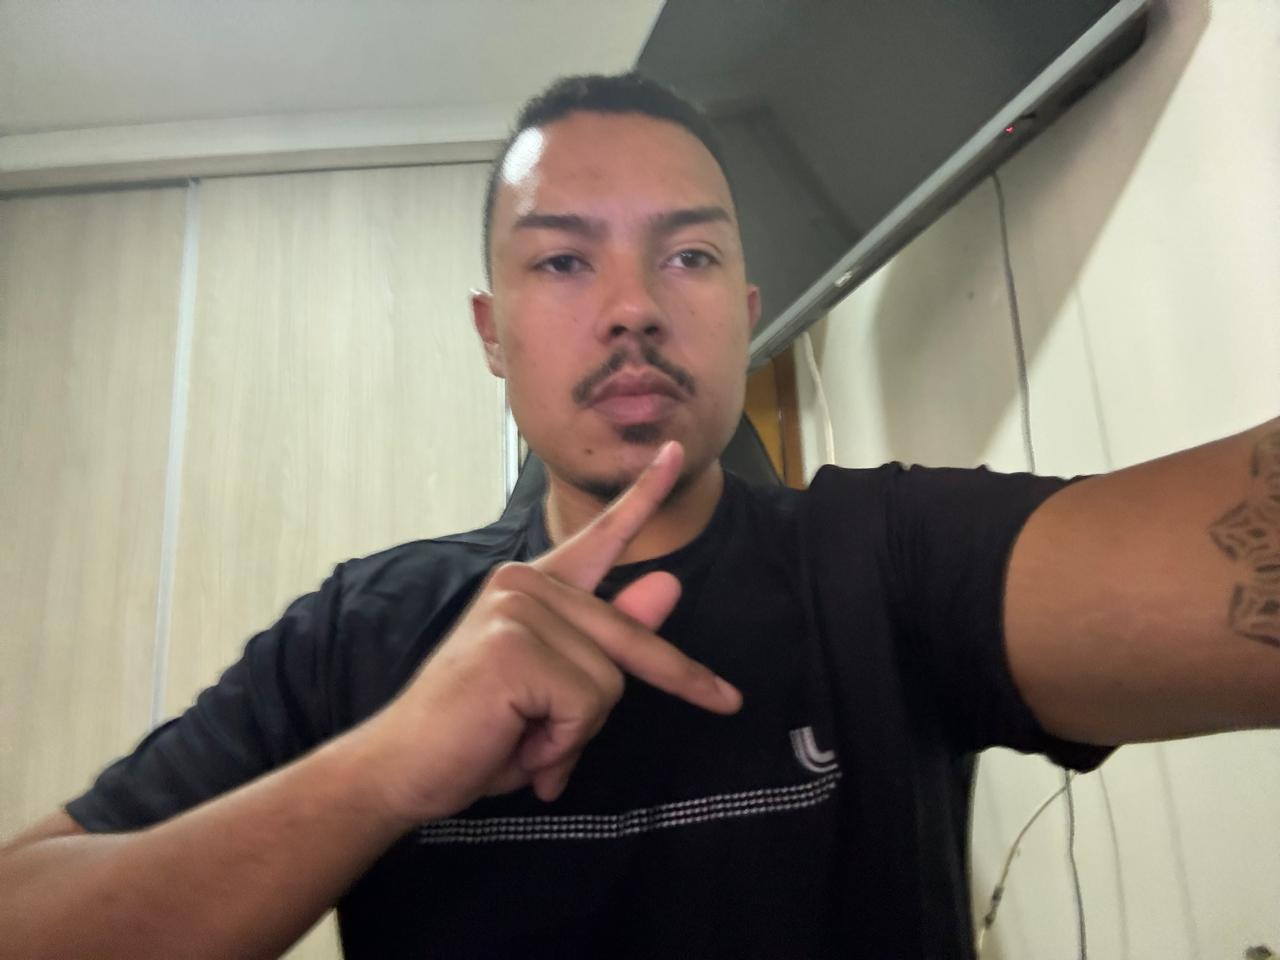p: (387, 433, 746, 844)
